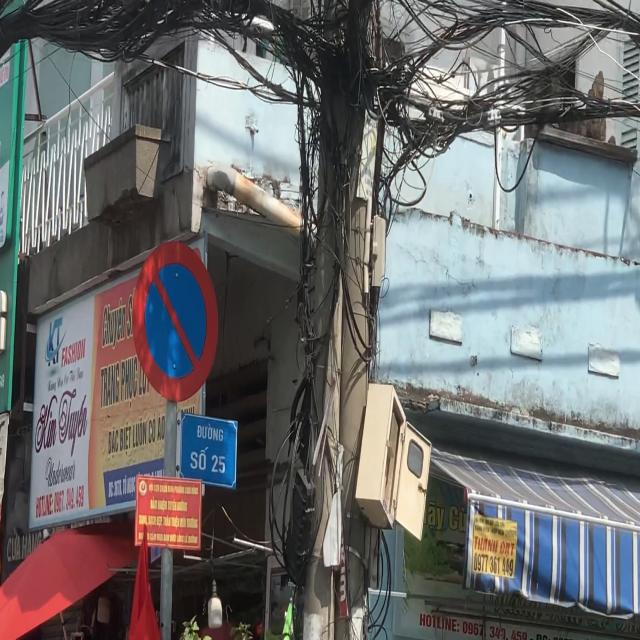Cam do: (129, 237, 221, 403)
